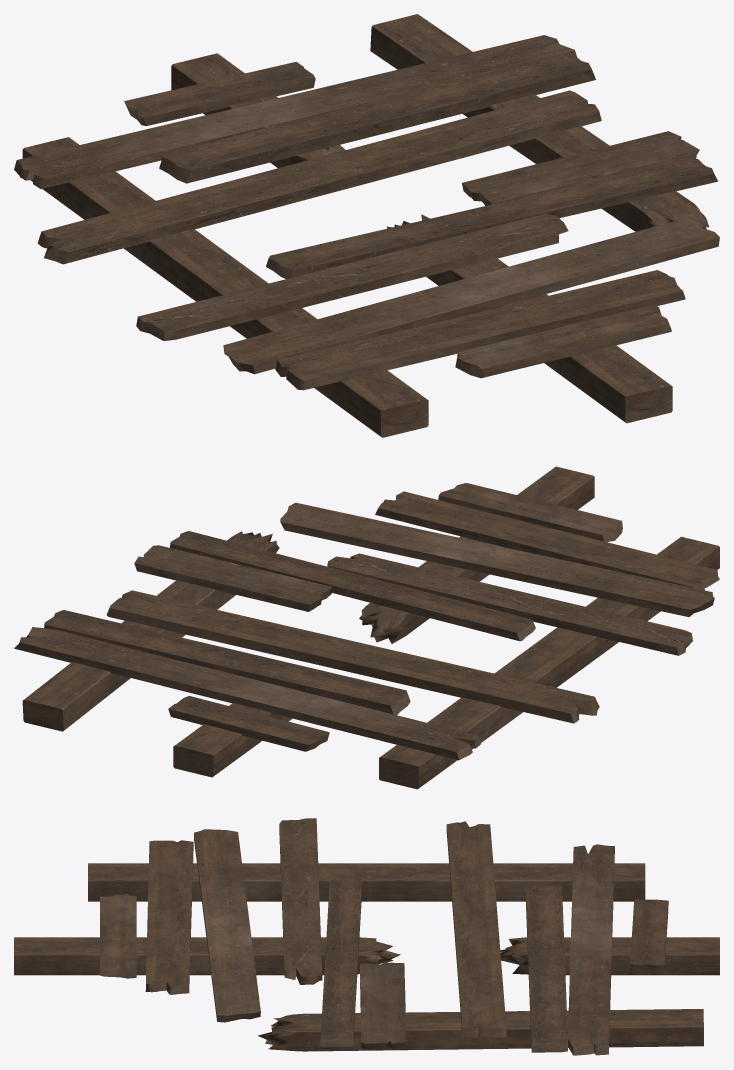
The model's file is SM_Tower_Wooden_Floor_Ruined_01.fbx.
3 views of the same model, one above another, from view 1: azimuth 30°, elevation 25°; view 2: azimuth 150°, elevation 25°; view 3: azimuth 270°, elevation 25° (orthographic). The views are drawn at different scales.
Parts seen in each view (by area): view 1: SM_Tower_Wooden_Floor_Ruined_01_LOD0; view 2: SM_Tower_Wooden_Floor_Ruined_01_LOD0; view 3: SM_Tower_Wooden_Floor_Ruined_01_LOD0.
Boxes of the visible parts, x1,y1,x2,y2 form: SM_Tower_Wooden_Floor_Ruined_01_LOD0: (14,14,719,437); SM_Tower_Wooden_Floor_Ruined_01_LOD0: (14,466,719,789); SM_Tower_Wooden_Floor_Ruined_01_LOD0: (14,818,719,1055).
Size of what is drawn, in the model's own units: 525 by 32.63 by 678.
